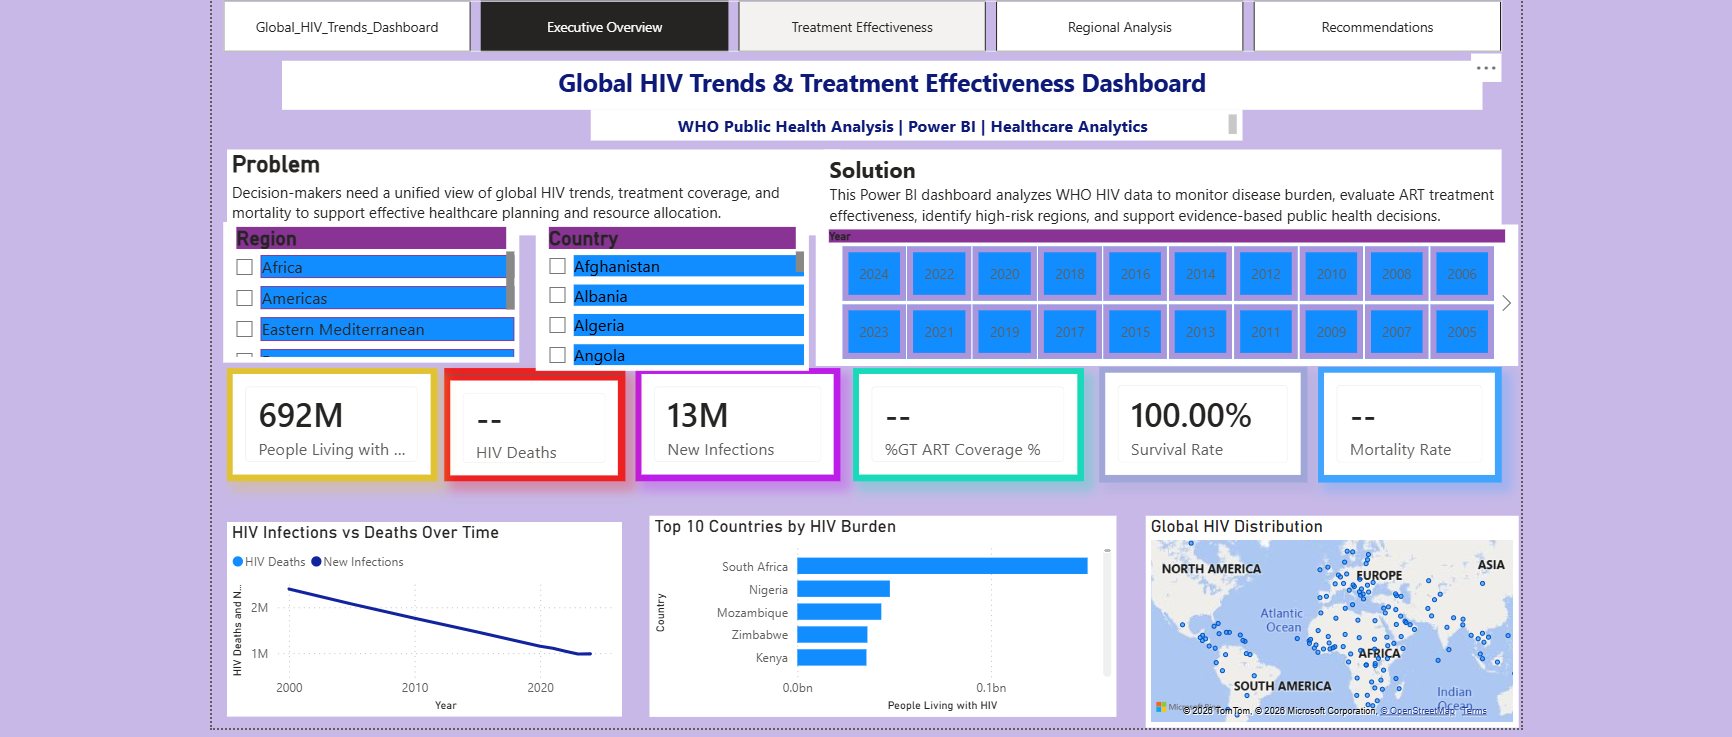

The page's visual inventory and layout, read from the dashboard file:
{"tool":"powerbi","page":{"name":"Executive Overview","canvas":[1280,720],"ordinal":1},"visuals":[{"type":"cardVisual","fields":{"Data":["Fact_HIV.New Infections"]},"box":[415.1,368.6,200,110.5],"z":0},{"type":"cardVisual","fields":{"Data":["Fact_HIV.HIV Deaths"]},"box":[227.9,368.6,176.7,110.5],"z":1000},{"type":"cardVisual","fields":{"Data":["Fact_HIV.People Living with HIV"]},"box":[15.1,368.6,205.8,110.5],"z":2000},{"type":"cardVisual","fields":{"Data":["Fact_HIV.ART Coverage %"]},"box":[627.9,368.6,225.6,110.5],"z":3000},{"type":"cardVisual","fields":{"Data":["Fact_HIV.Survival Rate"]},"box":[868.6,366.3,203.5,112.8],"z":4000},{"type":"cardVisual","fields":{"Data":["Fact_HIV.Mortality Rate"]},"box":[1082.6,366.3,179.1,112.8],"z":5000},{"type":"lineChart","title":"HIV Infections vs Deaths Over Time","fields":{"Category":["Fact_HIV.Year"],"Y":["Fact_HIV.HIV Deaths","Fact_HIV.New Infections"]},"box":[15.1,518.6,386,190.7],"z":6000},{"type":"map","title":"Global HIV Distribution","fields":{"Category":["Fact_HIV.Country"]},"box":[914,512.8,364,207],"z":7000},{"type":"clusteredBarChart","title":"Top 10 Countries by HIV Burden","fields":{"Category":["Fact_HIV.Country"],"Y":["Fact_HIV.People Living with HIV"]},"box":[427.9,512.8,457,196.5],"z":8000},{"type":"textbox","box":[68.6,67.4,1174.4,47.7],"z":12000},{"type":"textbox","box":[370.9,115.1,637.2,30.2],"z":13000},{"type":"textbox","title":"Problem","box":[15.1,154.7,600,83.7],"z":14000},{"type":"textbox","box":[598.8,154.7,662.8,83.7],"z":15000},{"type":"pageNavigator","box":[10.5,8.1,1251.2,50],"z":17001},{"type":"slicer","fields":{"Values":["Fact_HIV.Year"]},"box":[590.7,227.9,687.2,138.4],"z":17002},{"type":"slicer","fields":{"Values":["Fact_HIV.Region"]},"box":[10.5,225.6,289.5,137.2],"z":17004},{"type":"slicer","fields":{"Values":["Fact_HIV.Country"]},"box":[316.3,225.6,267.4,145.3],"z":17005}]}

Visuals, with their boxes on the page's 1280x720 design canvas (x1, y1, x2, y2). These are canvas units, not pixel positions in the 1732x737 screenshot, which may show the page scaled, cropped or inside an application window:
cardVisual - Fact_HIV.New Infections: region(415, 369, 615, 479)
cardVisual - Fact_HIV.HIV Deaths: region(228, 369, 405, 479)
cardVisual - Fact_HIV.People Living with HIV: region(15, 369, 221, 479)
cardVisual - Fact_HIV.ART Coverage %: region(628, 369, 854, 479)
cardVisual - Fact_HIV.Survival Rate: region(869, 366, 1072, 479)
cardVisual - Fact_HIV.Mortality Rate: region(1083, 366, 1262, 479)
"HIV Infections vs Deaths Over Time" lineChart: region(15, 519, 401, 709)
"Global HIV Distribution" map: region(914, 513, 1278, 720)
"Top 10 Countries by HIV Burden" clusteredBarChart: region(428, 513, 885, 709)
textbox: region(69, 67, 1243, 115)
textbox: region(371, 115, 1008, 145)
"Problem" textbox: region(15, 155, 615, 238)
textbox: region(599, 155, 1262, 238)
pageNavigator: region(10, 8, 1262, 58)
slicer - Fact_HIV.Year: region(591, 228, 1278, 366)
slicer - Fact_HIV.Region: region(10, 226, 300, 363)
slicer - Fact_HIV.Country: region(316, 226, 584, 371)
